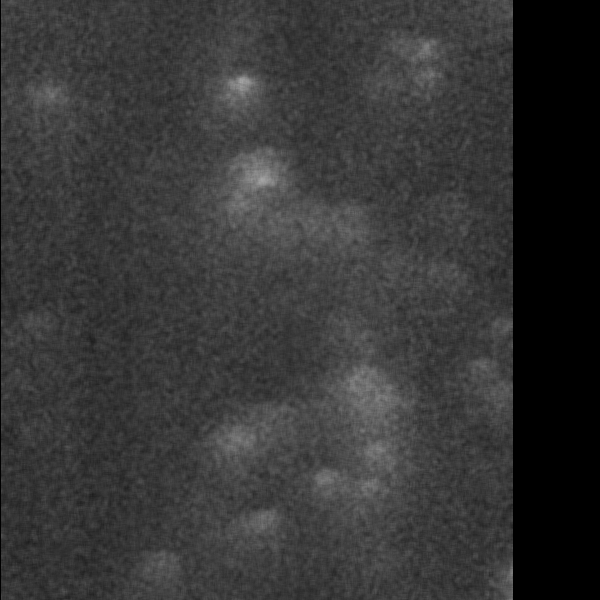spark: (228, 141, 291, 229), (203, 409, 265, 466), (215, 64, 265, 134), (241, 501, 291, 568), (334, 201, 368, 262), (33, 71, 62, 124), (412, 63, 443, 88)
